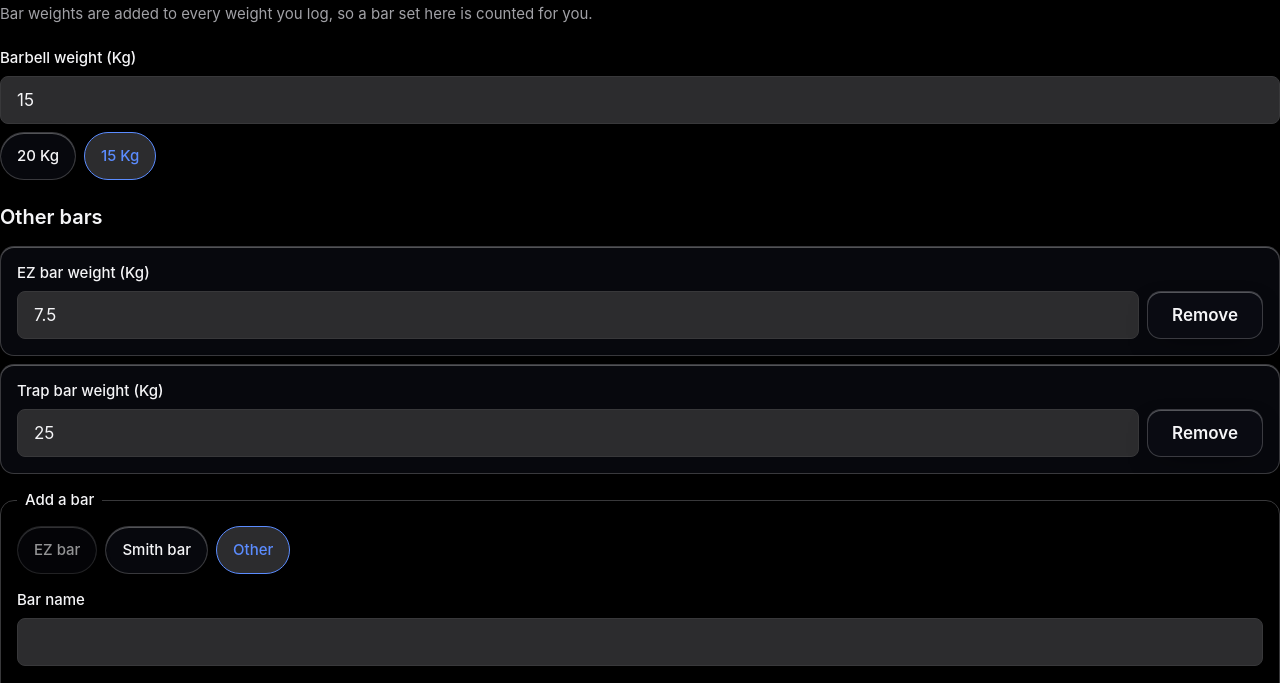
Test case: changing the bars › refuses a bar name that is already used, even in another case
In the field labelled "Bar name": point(640, 642) left=17, top=618, right=1263, bottom=666, type "  trap BAR "
(page scrolled)
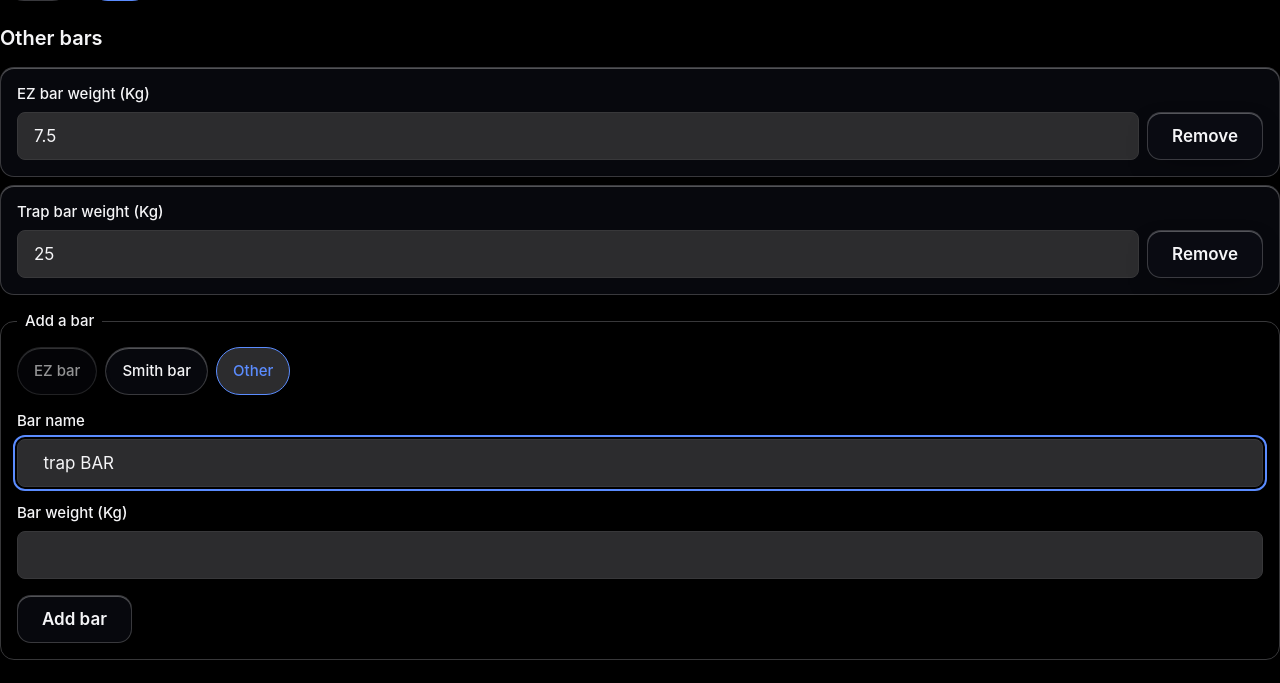
In the field labelled "Bar weight (Kg)": point(640, 555) left=17, top=531, right=1263, bottom=579, type "20"
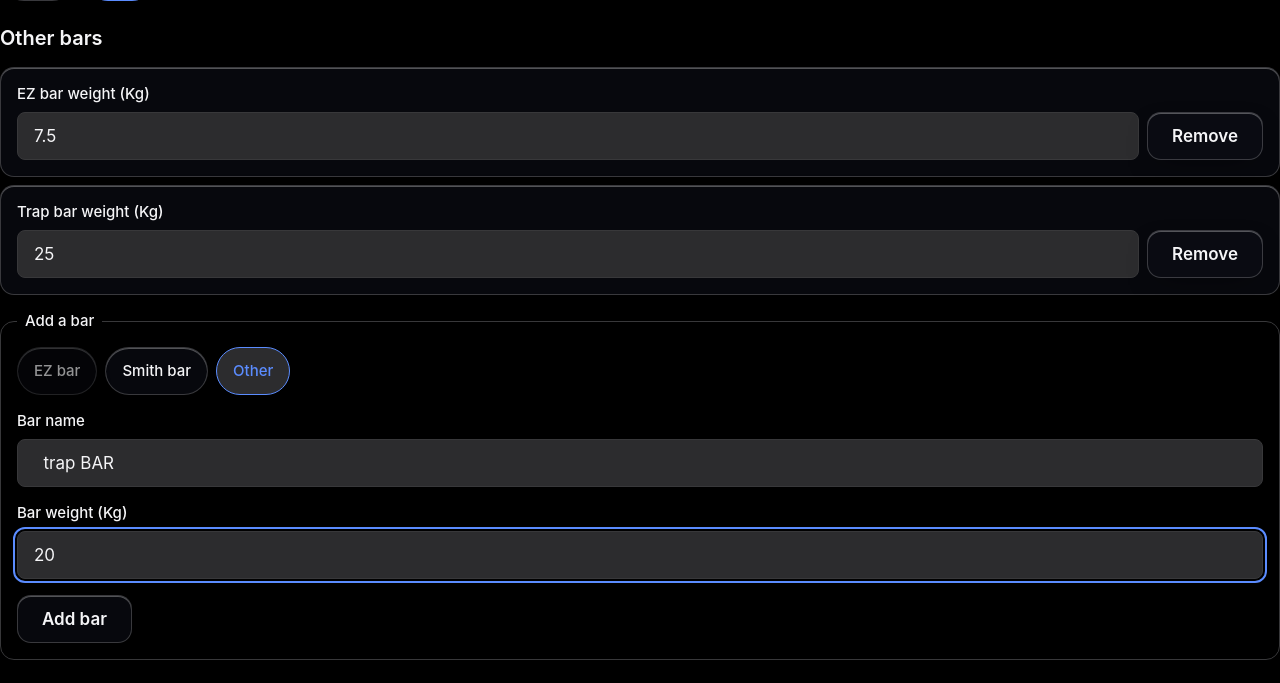
Click the button "Add bar": point(74, 619) left=17, top=595, right=132, bottom=643
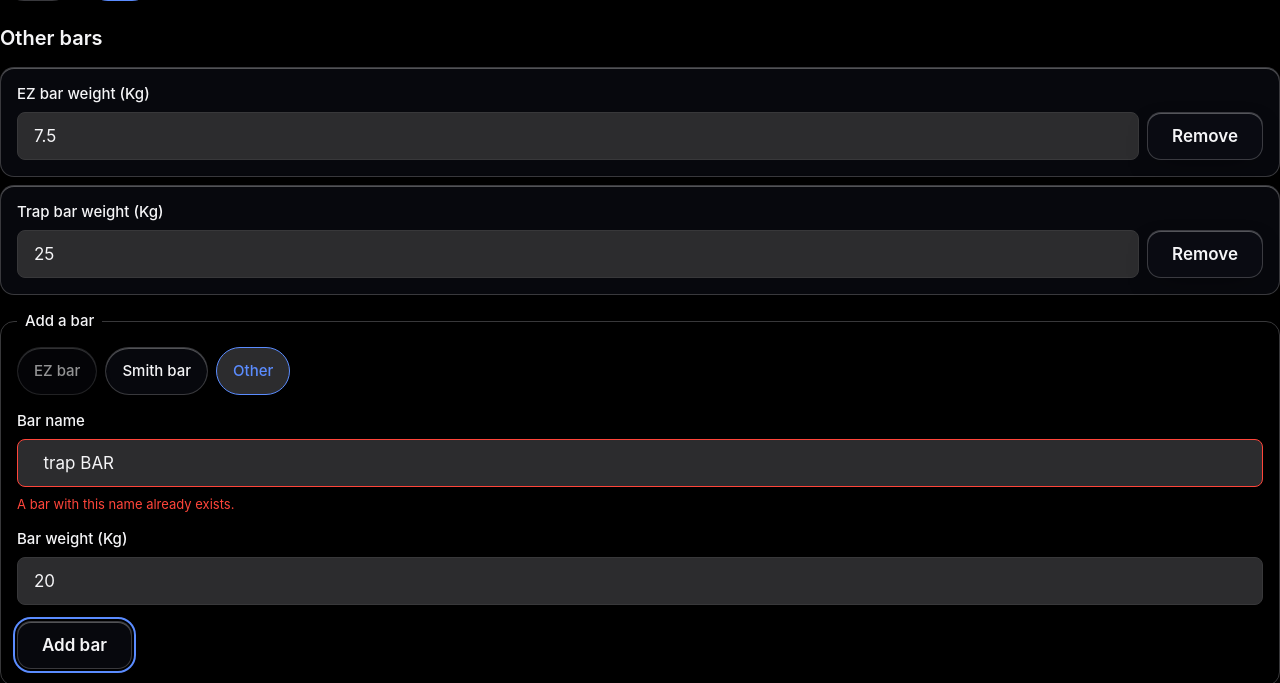
Now the text "A bar with this name already exists." is shown, box left=17, top=496, right=234, bottom=512
